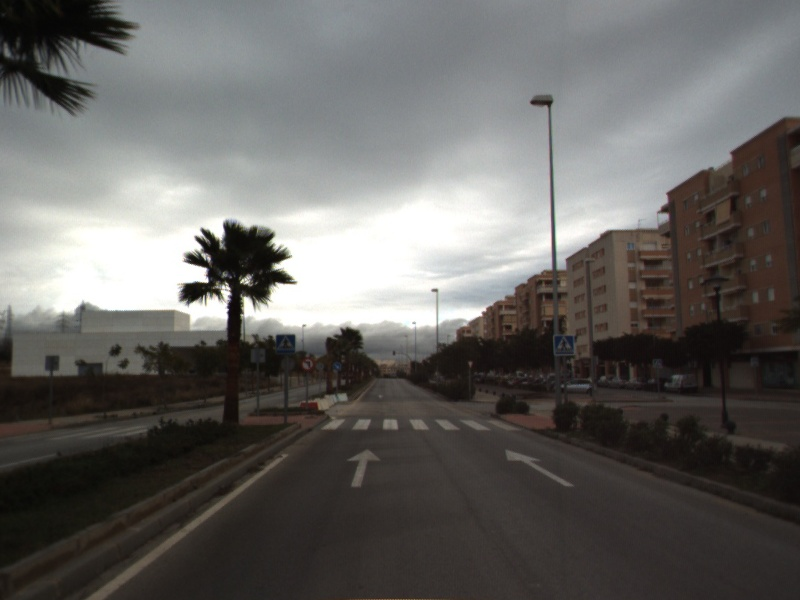STRAIGHT: (504, 448, 576, 488), (345, 447, 383, 489)
